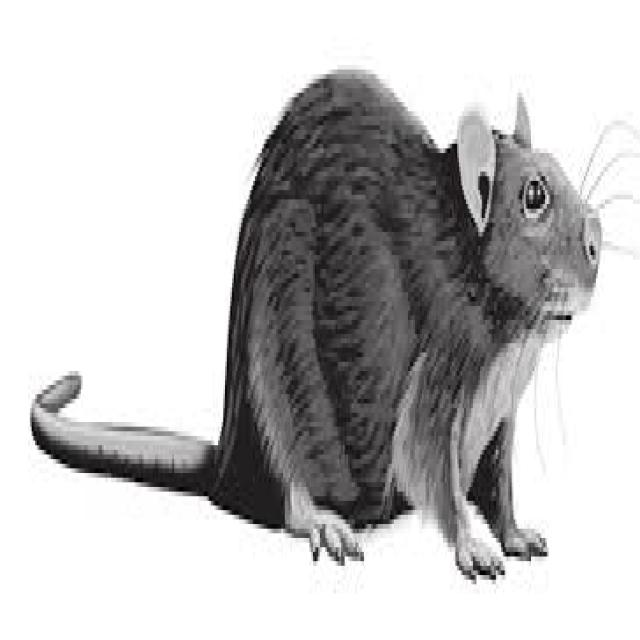rat: (28, 60, 637, 580)
